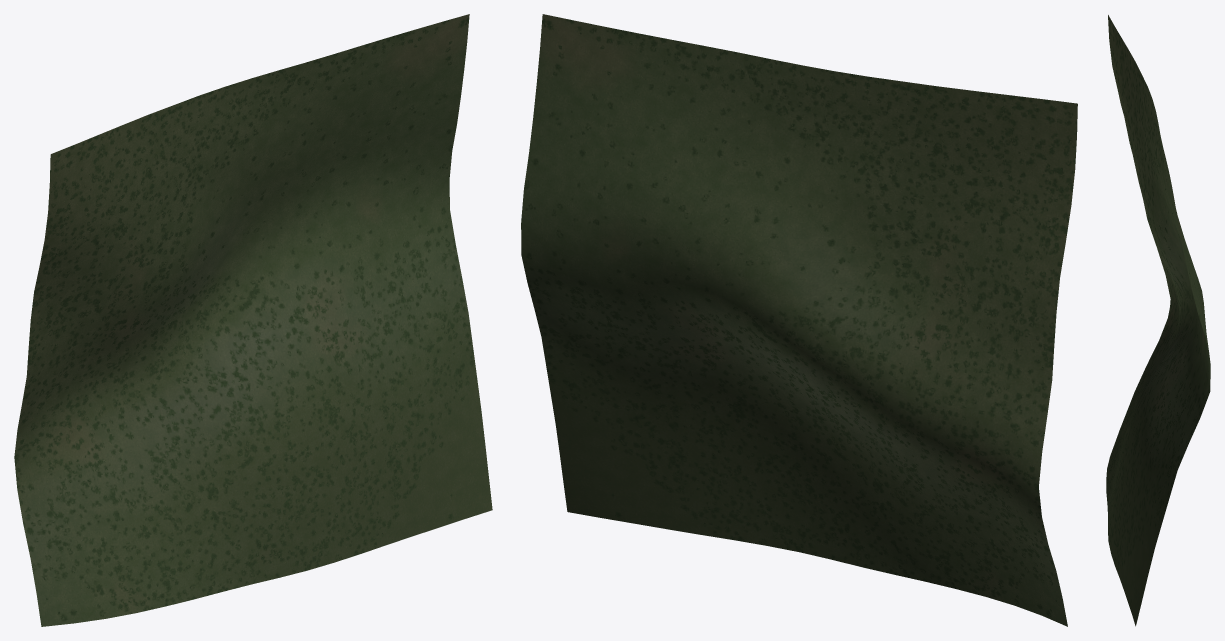
File: terrain_mid_06_01.obj
3 renders of one model, left to right at view 1: azimuth 30°, elevation 25°; view 2: azimuth 150°, elevation 25°; view 3: azimuth 270°, elevation 25°, orthographic. The views are drawn at different scales.
Parts seen in each view (by area): view 1: terrain_mid_06_01; view 2: terrain_mid_06_01; view 3: terrain_mid_06_01.
Part boxes in pixels (bbox=[...]): terrain_mid_06_01: bbox=[14, 14, 492, 626]; terrain_mid_06_01: bbox=[521, 14, 1077, 626]; terrain_mid_06_01: bbox=[1106, 15, 1210, 626].
Bounding box in the file's own units: 320 × 320 × 72.54.
1 material, 1 textured.
